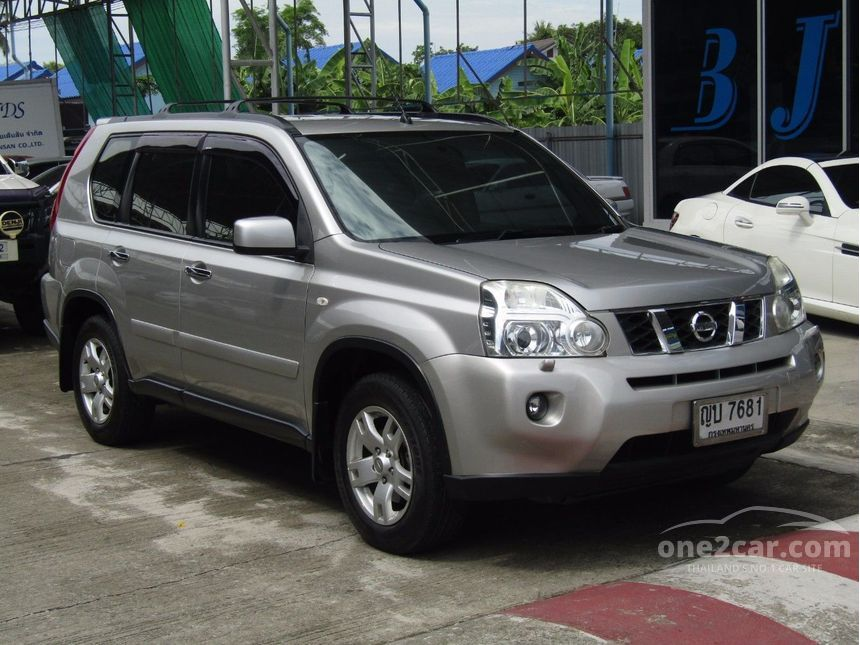pickup: (43, 97, 829, 556)
